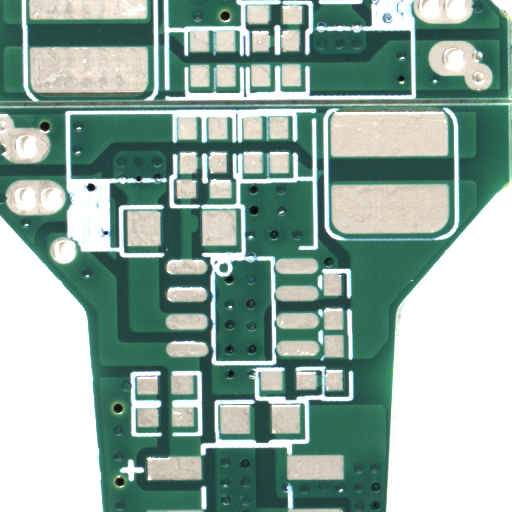Spur: (193, 225, 202, 248)
